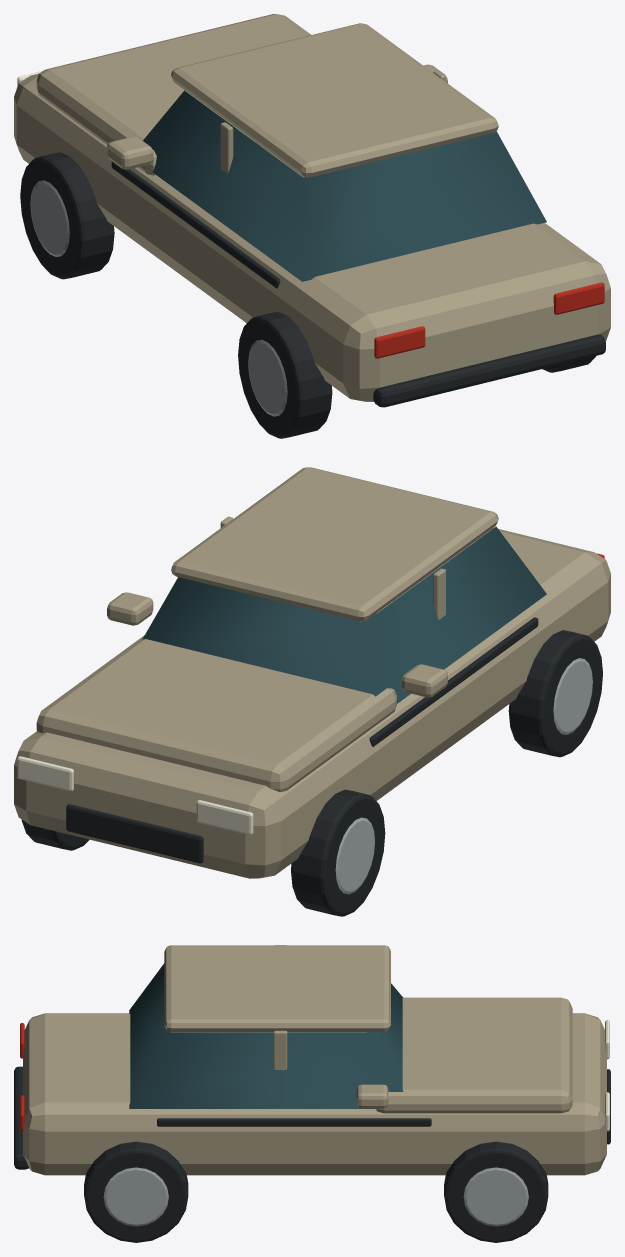
File: vehicle.glb
3 views of the same model, one above another, from view 1: azimuth 30°, elevation 25°; view 2: azimuth 150°, elevation 25°; view 3: azimuth 270°, elevation 25° (orthographic). The views are drawn at different scales.
Visible parts, largest first — view 1: Vehicle_Body, Wheel_RL, Wheel_FL; view 2: Vehicle_Body, Wheel_FL, Wheel_RL, Wheel_FR; view 3: Vehicle_Body, Wheel_FR, Wheel_RR.
Part boxes in pixels (x1,y1,x2,y2): Vehicle_Body: (14, 14, 610, 407); Wheel_RL: (238, 311, 332, 438); Wheel_FL: (20, 152, 114, 279); Vehicle_Body: (14, 467, 610, 878); Wheel_FL: (291, 789, 385, 916); Wheel_RL: (508, 630, 602, 757); Wheel_FR: (21, 820, 89, 850); Vehicle_Body: (14, 945, 610, 1175); Wheel_FR: (444, 1141, 548, 1242); Wheel_RR: (84, 1141, 188, 1242).
Bounding box in the file's own units: 2.27 × 1.61 × 4.35.
